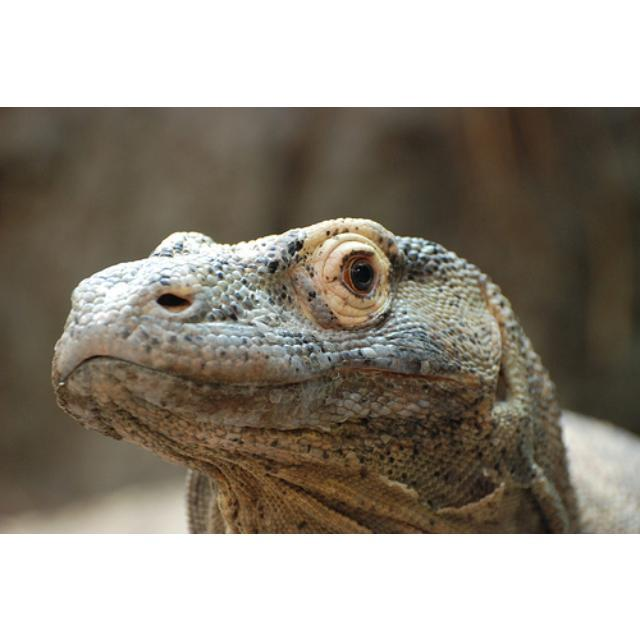KomodoDragon: (51, 214, 638, 531)
